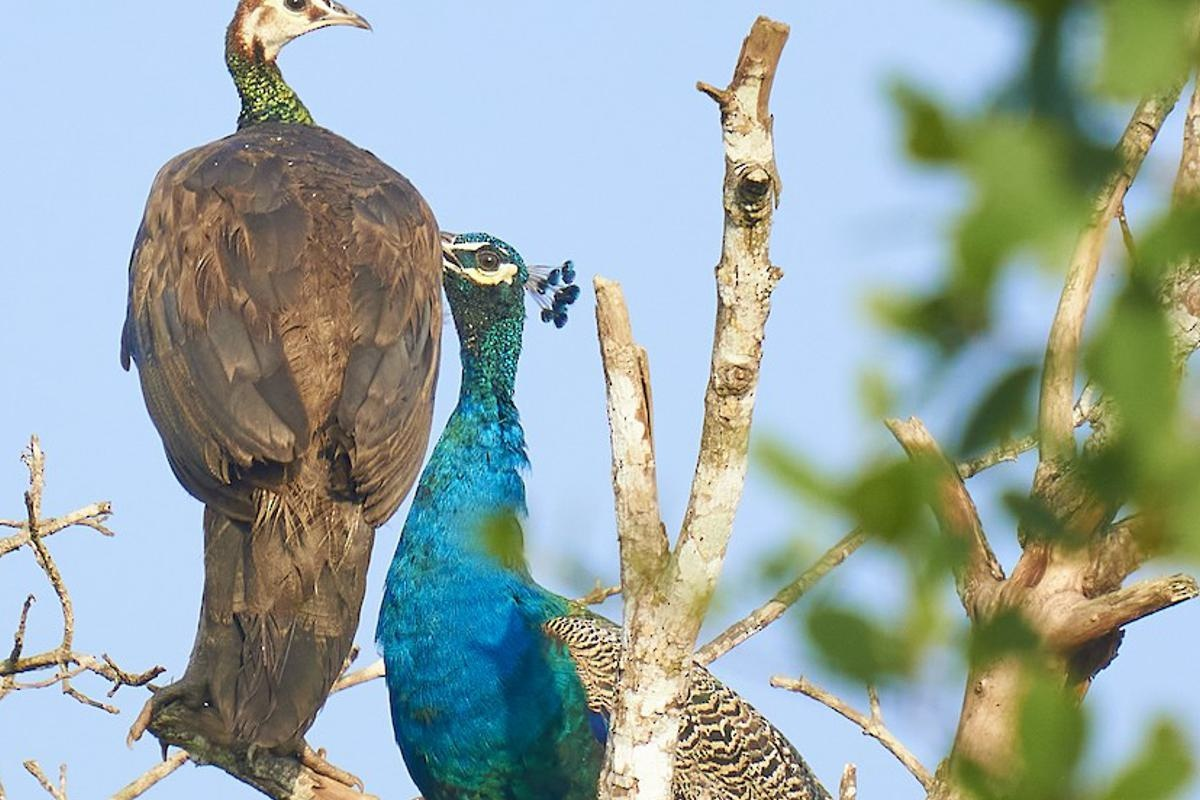peacock: (410, 208, 791, 800)
